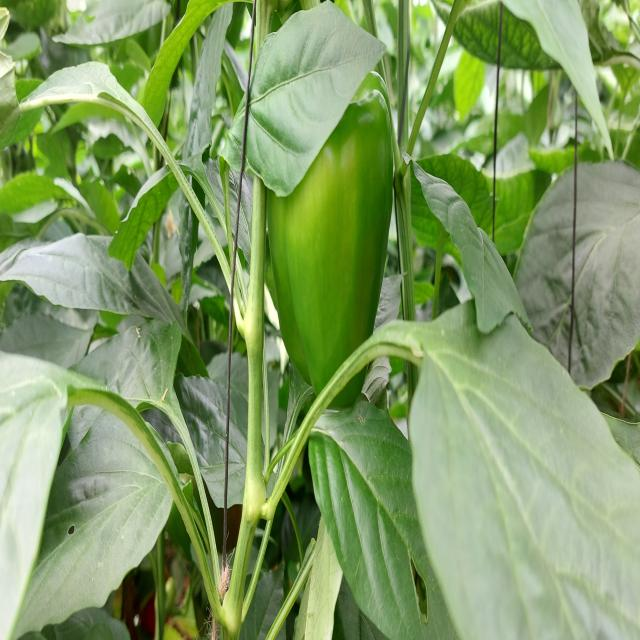Green--Not-ready-to-harvest: (264, 70, 398, 423)
